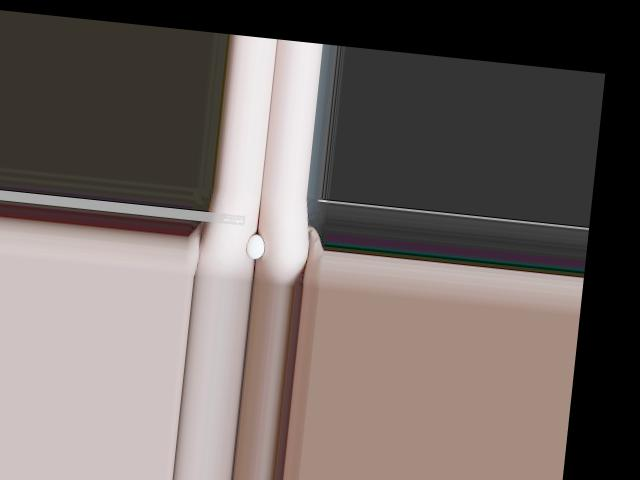egg: (245, 233, 265, 259)
